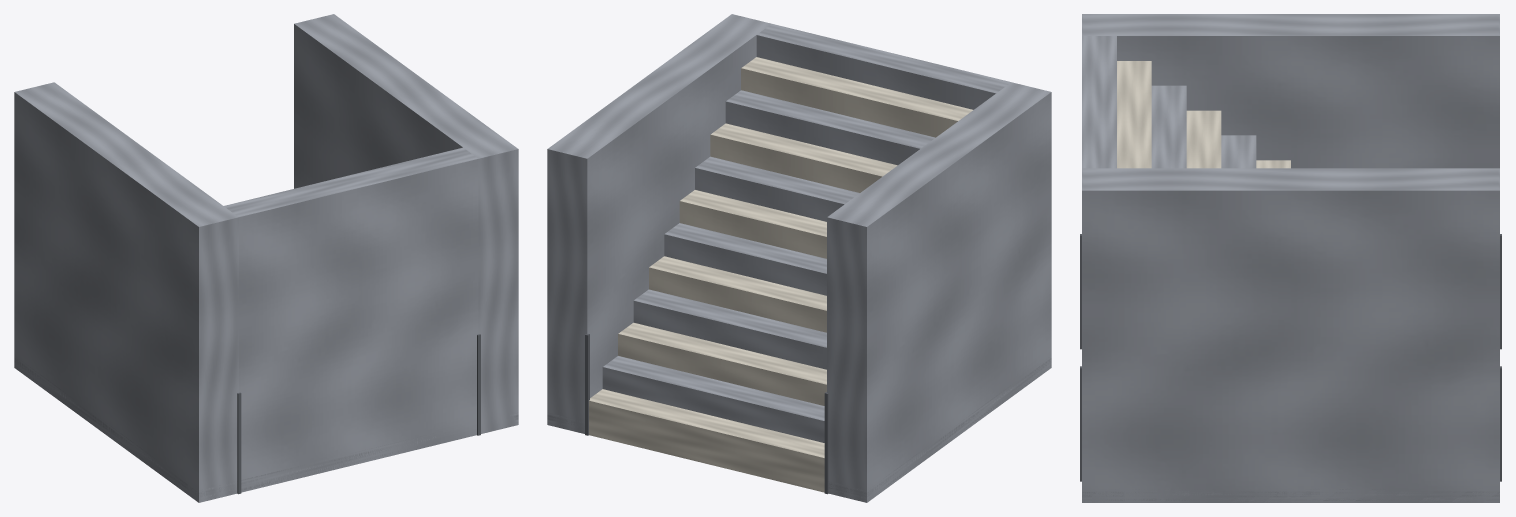
The picture shows the model from 3 angles, left to right: view 1: azimuth 30°, elevation 25°; view 2: azimuth 150°, elevation 25°; view 3: azimuth 270°, elevation 25°; orthographic projection. The views are drawn at different scales.
Visible parts, largest first — view 1: crypt-stair; view 2: crypt-stair; view 3: crypt-stair.
Part boxes in pixels (left/top/right/bottom): crypt-stair: left=14, top=14, right=518, bottom=502; crypt-stair: left=547, top=14, right=1051, bottom=502; crypt-stair: left=1080, top=14, right=1501, bottom=502.
Bounding box in the file's own units: 4 × 3.3 × 4.04.
Materials: 3 (2 with a texture image).
